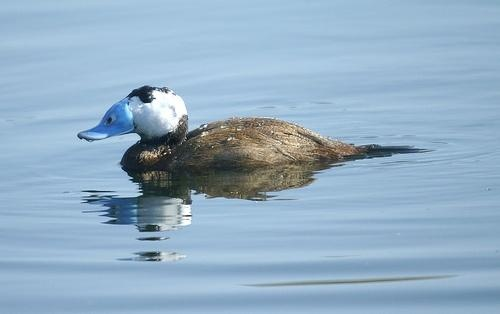bird: (78, 83, 420, 181)
